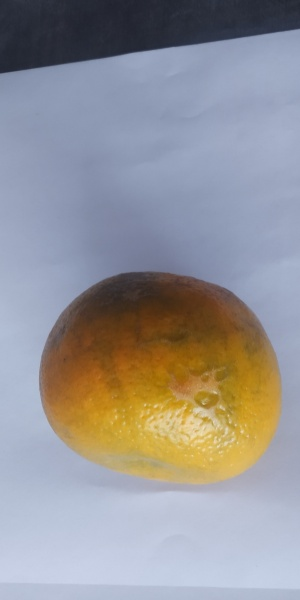BAD: (37, 270, 288, 488)
